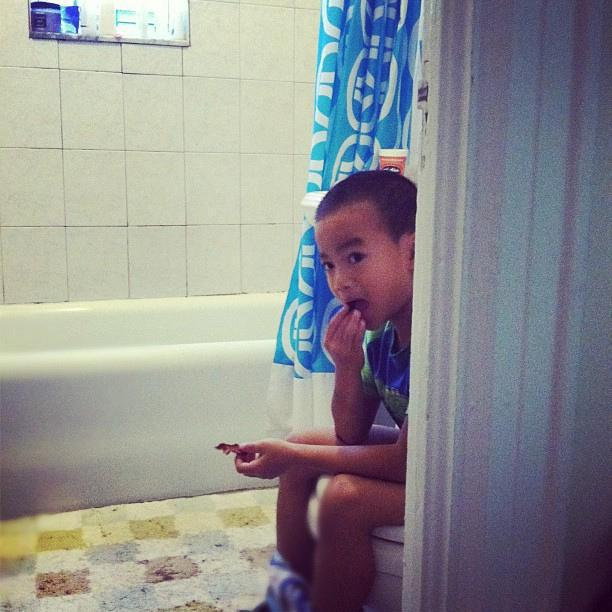Sanitario: (347, 300, 579, 610)
